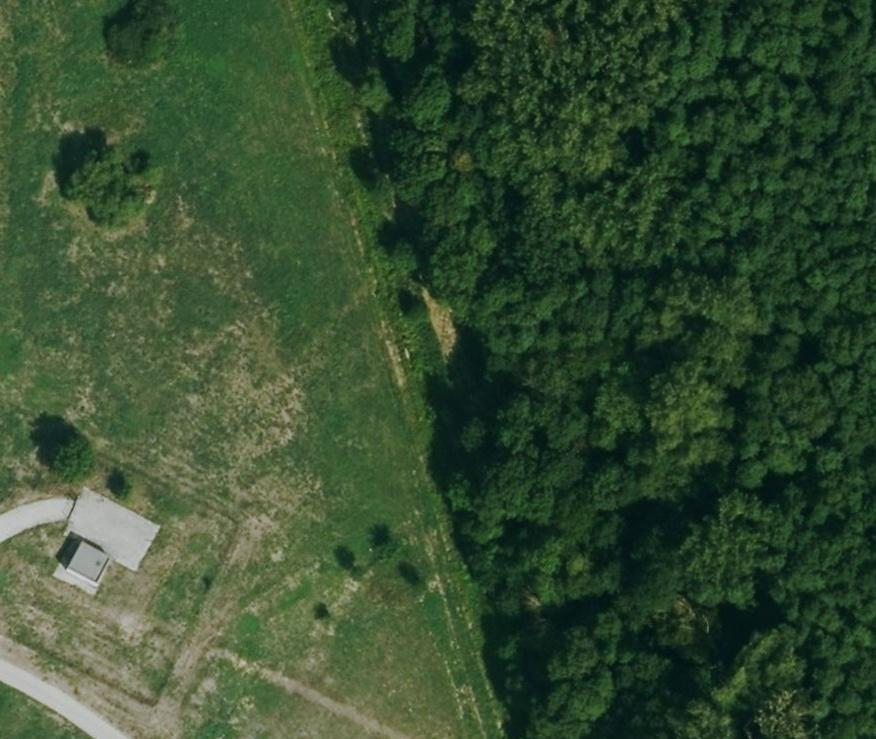field: (0, 3, 498, 737)
forest: (335, 2, 876, 737)
